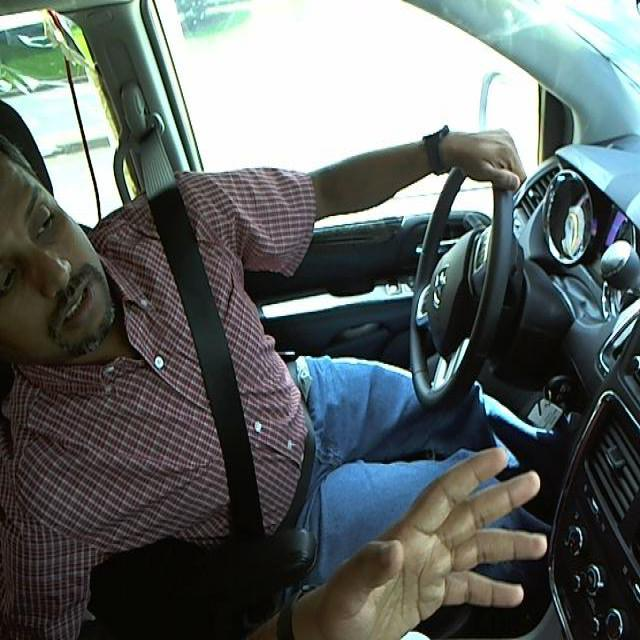seatbelt: (150, 207, 284, 537)
